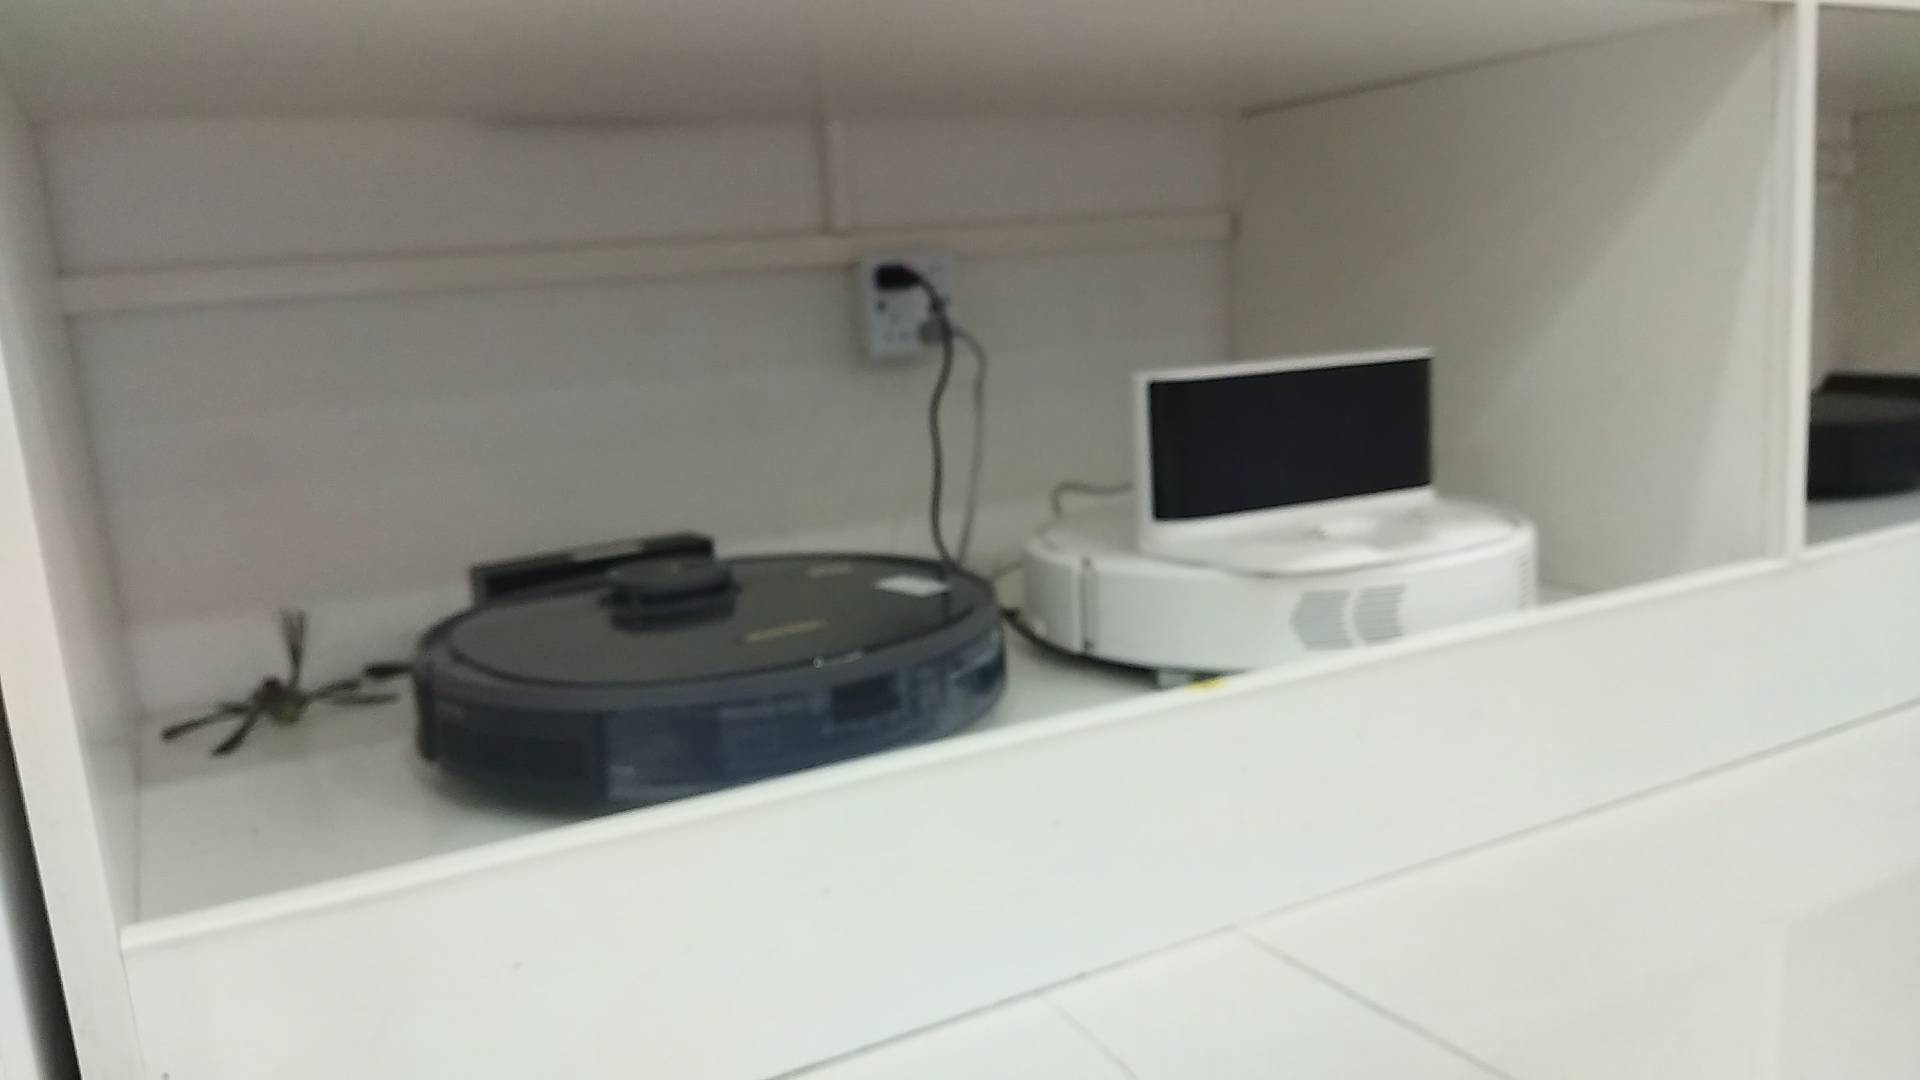recharge seat: (1130, 340, 1522, 574)
